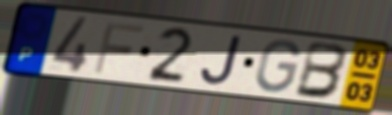2: (146, 25, 195, 86)
4: (49, 15, 91, 75)
B: (292, 39, 352, 101)
F: (91, 20, 146, 76)
G: (253, 38, 303, 95)
J: (198, 34, 245, 87)
